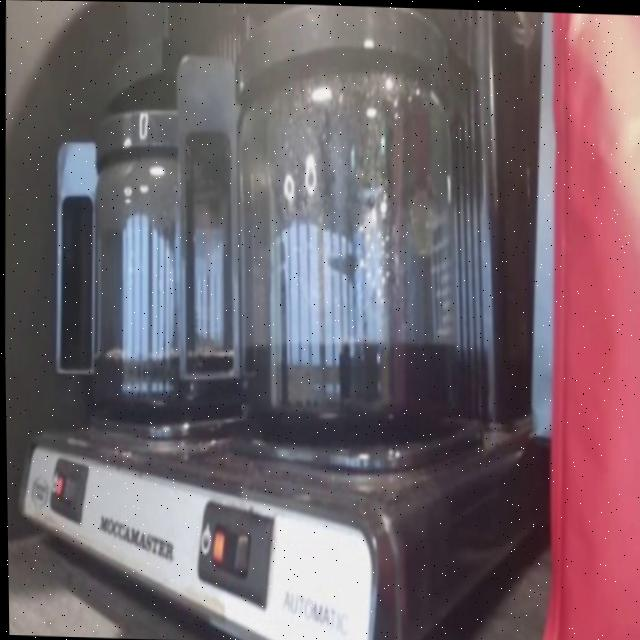coffee: (219, 3, 467, 441), (83, 90, 246, 429)
